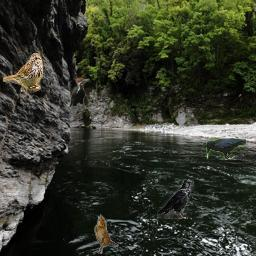Crow: (157, 179, 194, 219), (206, 138, 246, 160)
Sparrow: (3, 53, 43, 93), (94, 214, 119, 254)
Woodpecker: (69, 76, 90, 109)
